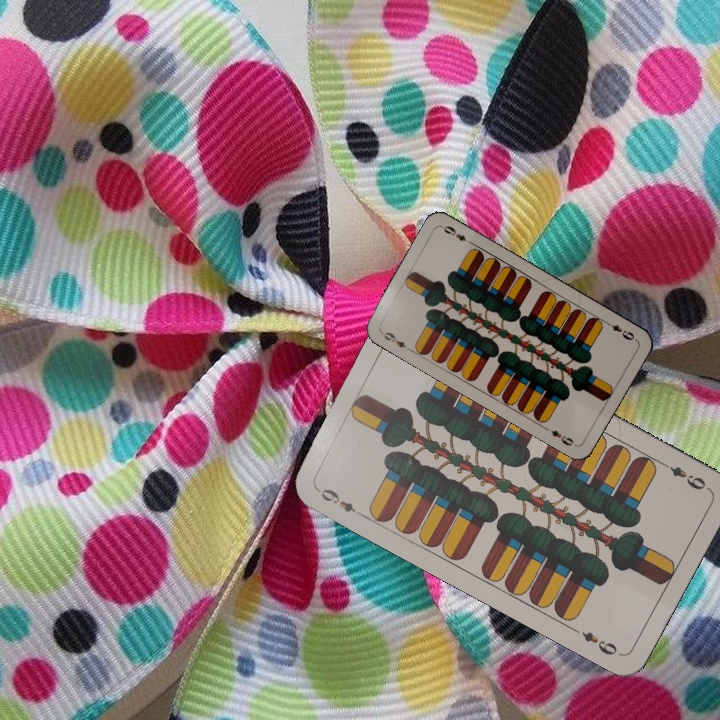E9: (657, 458, 711, 493), (312, 483, 366, 518), (601, 317, 639, 343), (377, 327, 414, 353)
